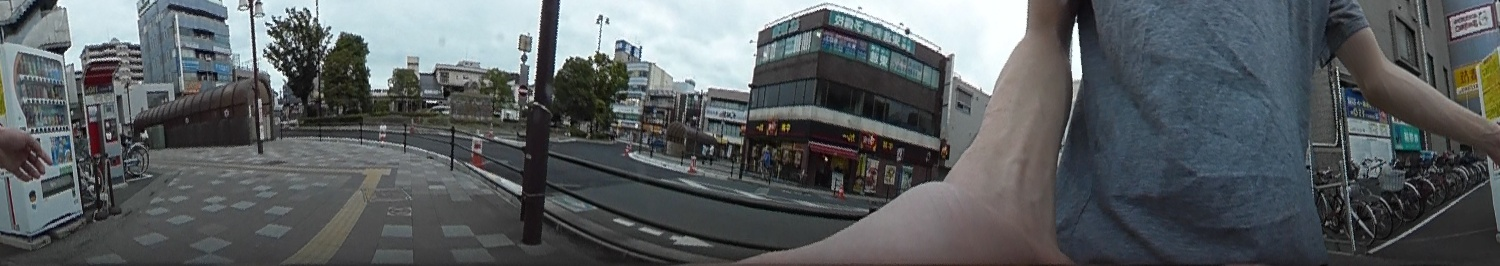difficult_person: (758, 147, 772, 176)
